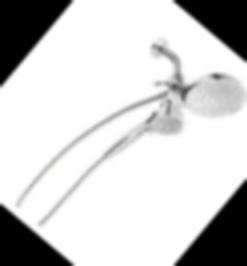Ducha: (7, 14, 247, 266)
